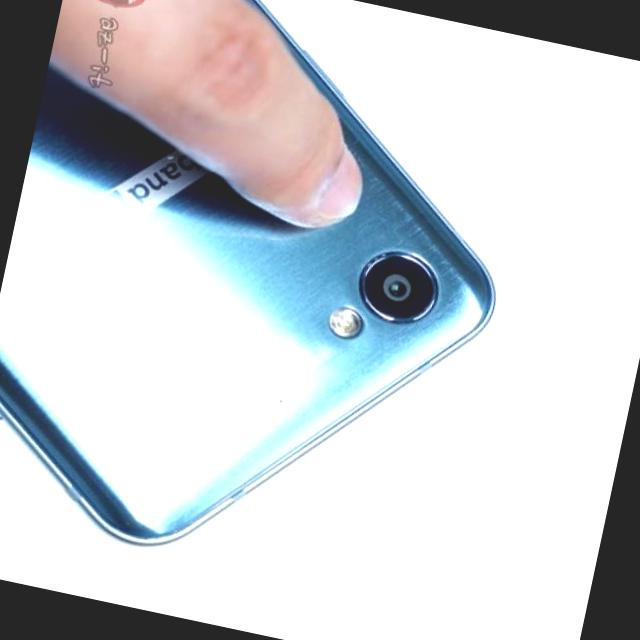lens_back: (348, 238, 448, 336)
